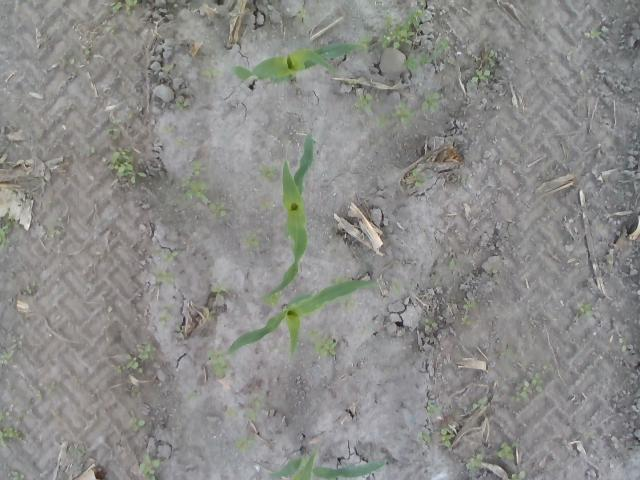Maize: (228, 279, 374, 368), (262, 134, 314, 300), (232, 42, 358, 84), (269, 445, 388, 480)
Weeds: (377, 0, 431, 51), (510, 362, 553, 404), (401, 36, 450, 70), (110, 144, 148, 186), (174, 175, 210, 208), (305, 326, 337, 359), (125, 339, 153, 375), (0, 334, 23, 369), (471, 50, 496, 82), (390, 100, 417, 129), (419, 87, 446, 114), (207, 350, 231, 379), (243, 392, 266, 422), (498, 348, 528, 368), (35, 382, 66, 401), (139, 454, 161, 480), (494, 441, 522, 461), (0, 216, 16, 250), (0, 426, 24, 448), (352, 94, 376, 114), (465, 447, 484, 470), (112, 0, 139, 16), (234, 435, 258, 453), (438, 426, 456, 450), (262, 289, 284, 308), (200, 64, 226, 80), (208, 201, 226, 224), (156, 271, 177, 287), (158, 304, 176, 322), (424, 399, 442, 417), (239, 231, 258, 248), (175, 94, 193, 111), (256, 160, 275, 176), (127, 416, 146, 432), (210, 283, 232, 296), (160, 249, 182, 262), (338, 296, 355, 312), (576, 302, 592, 319), (375, 110, 390, 128), (417, 430, 433, 446), (356, 32, 374, 46), (411, 170, 424, 188), (82, 46, 93, 65), (422, 318, 438, 331), (262, 0, 274, 17), (46, 190, 58, 207), (224, 404, 238, 418), (24, 280, 36, 296), (105, 128, 121, 140), (48, 226, 64, 238), (472, 397, 488, 409), (80, 142, 97, 153), (69, 446, 86, 457), (184, 390, 201, 400), (191, 159, 201, 176), (511, 470, 528, 480), (458, 172, 471, 185), (258, 199, 276, 208), (160, 125, 178, 134), (392, 280, 402, 296), (9, 470, 25, 480), (296, 4, 308, 17), (462, 316, 477, 326), (0, 409, 11, 422), (618, 336, 626, 353), (448, 258, 461, 268), (175, 136, 188, 146), (348, 78, 360, 88), (63, 104, 78, 112), (270, 92, 289, 98), (334, 276, 348, 284), (590, 31, 602, 40), (463, 303, 477, 310), (486, 264, 498, 272), (164, 64, 172, 72)
